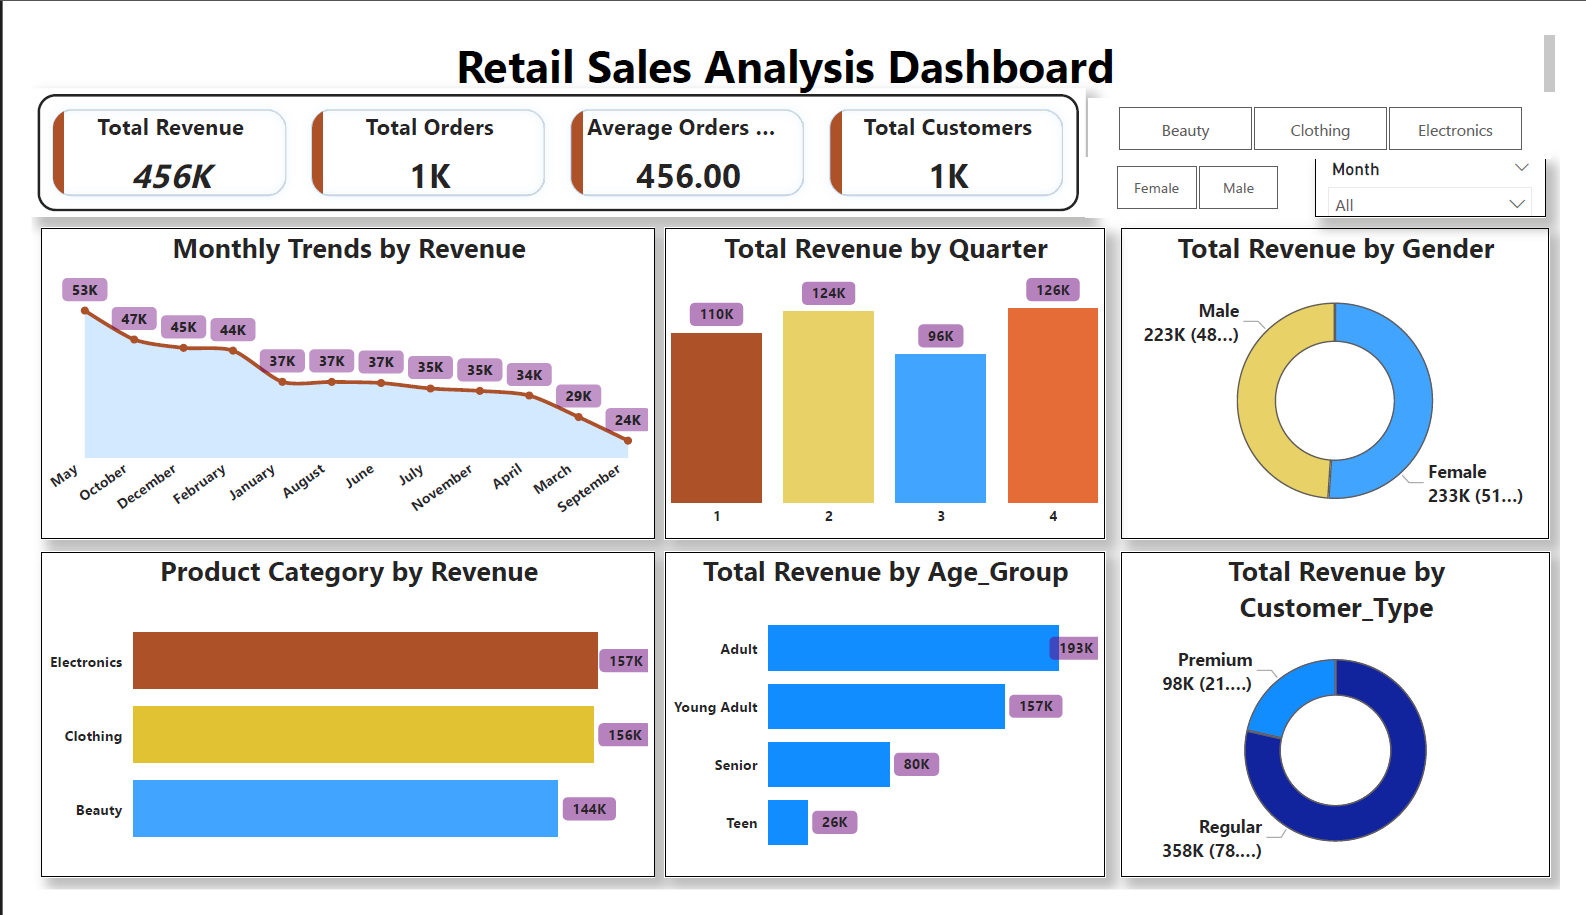

The page's visual inventory and layout, read from the dashboard file:
{"tool":"powerbi","page":{"name":"Executive Dashboard","canvas":[1280,720],"ordinal":0},"visuals":[{"type":"textbox","box":[0,0,1280,57.9],"z":0},{"type":"cardVisual","fields":{"Data":["retail_sales_analysis sales.Total Revenue","retail_sales_analysis sales.Total Orders","retail_sales_analysis sales.Average Orders Amount","retail_sales_analysis sales.Total Customer"]},"box":[0,49.5,883.1,107.4],"z":1000},{"type":"lineChart","title":"Monthly Trends by Revenue","fields":{"Category":["retail_sales_analysis sales.Month"],"Y":["Sum(retail_sales_analysis sales.Total_Amount)"]},"box":[8.5,165.8,513.1,261.4],"z":2000},{"type":"clusteredBarChart","title":"Product Category by Revenue","fields":{"Category":["retail_sales_analysis sales.Product_Category"],"Y":["Sum(retail_sales_analysis sales.Total_Amount)"]},"box":[8.5,436.8,513.1,273.5],"z":3000},{"type":"donutChart","fields":{"Category":["retail_sales_analysis sales.Gender"],"Y":["retail_sales_analysis sales.Total Revenue"]},"box":[912.4,165.8,358.2,261.4],"z":4000},{"type":"clusteredColumnChart","fields":{"Category":["retail_sales_analysis sales.Quarter"],"Y":["retail_sales_analysis sales.Total Revenue"]},"box":[530,165.8,369.1,261.4],"z":5000},{"type":"slicer","fields":{"Values":["retail_sales_analysis sales.Month"]},"box":[1075,107,193,50],"z":6000},{"type":"slicer","fields":{"Values":["retail_sales_analysis sales.Product_Category"]},"box":[884.6,58.1,387.2,49.6],"z":7000},{"type":"slicer","fields":{"Values":["retail_sales_analysis sales.Gender"]},"box":[883.1,107.4,184.6,49.5],"z":8000},{"type":"barChart","fields":{"Y":["retail_sales_analysis sales.Total Revenue"],"Category":["retail_sales_analysis sales.Age_Group"]},"box":[530,436.8,369.1,273.5],"z":8001},{"type":"donutChart","fields":{"Category":["retail_sales_analysis sales.Customer_Type"],"Y":["retail_sales_analysis sales.Total Revenue"]},"box":[912.4,436.8,359.4,273.5],"z":8002}]}

Visuals, with their boxes in screenshot pixels (x1, y1, x2, y2), scaled from the page's 1280x720 canvas onto the 1586x915 screenshot:
textbox: <box>0,0,1585,74</box>
cardVisual - retail_sales_analysis sales.Total Revenue x retail_sales_analysis sales.Total Orders: <box>0,63,1094,199</box>
"Monthly Trends by Revenue" lineChart: <box>11,211,646,543</box>
"Product Category by Revenue" clusteredBarChart: <box>11,555,646,903</box>
donutChart - retail_sales_analysis sales.Gender x retail_sales_analysis sales.Total Revenue: <box>1131,211,1574,543</box>
clusteredColumnChart - retail_sales_analysis sales.Quarter x retail_sales_analysis sales.Total Revenue: <box>657,211,1114,543</box>
slicer - retail_sales_analysis sales.Month: <box>1332,136,1571,200</box>
slicer - retail_sales_analysis sales.Product_Category: <box>1096,74,1576,137</box>
slicer - retail_sales_analysis sales.Gender: <box>1094,136,1323,199</box>
barChart - retail_sales_analysis sales.Total Revenue x retail_sales_analysis sales.Age_Group: <box>657,555,1114,903</box>
donutChart - retail_sales_analysis sales.Customer_Type x retail_sales_analysis sales.Total Revenue: <box>1131,555,1576,903</box>
